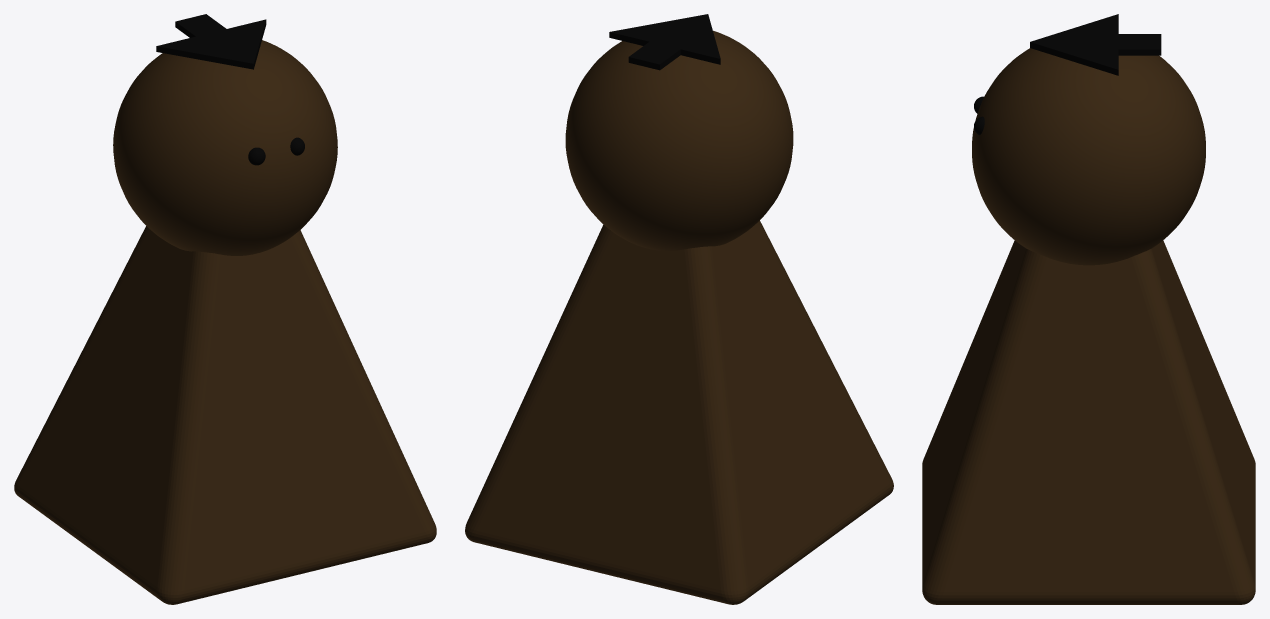
The model's file is 5brown.obj.
3 renders of one model, left to right at view 1: azimuth 30°, elevation 25°; view 2: azimuth 150°, elevation 25°; view 3: azimuth 270°, elevation 25°, orthographic. The views are drawn at different scales.
Visible parts, largest first — view 1: Curve.003_Curve.003, Curve.003_Curve.004; view 2: Curve.003_Curve.003, Curve.003_Curve.004; view 3: Curve.003_Curve.003, Curve.003_Curve.004.
Part boxes in pixels (bbox=[...]): Curve.003_Curve.003: bbox=[14, 40, 436, 604]; Curve.003_Curve.004: bbox=[156, 14, 304, 165]; Curve.003_Curve.003: bbox=[465, 30, 893, 604]; Curve.003_Curve.004: bbox=[609, 14, 720, 70]; Curve.003_Curve.003: bbox=[922, 48, 1255, 604]; Curve.003_Curve.004: bbox=[974, 14, 1161, 134].
Bounding box in the file's own units: 0.2932 × 0.4819 × 0.2932.
